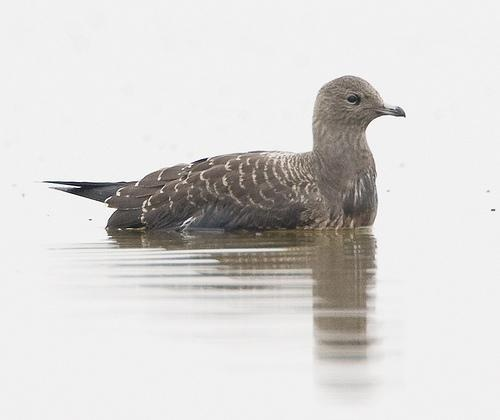bird: (51, 74, 407, 248)
